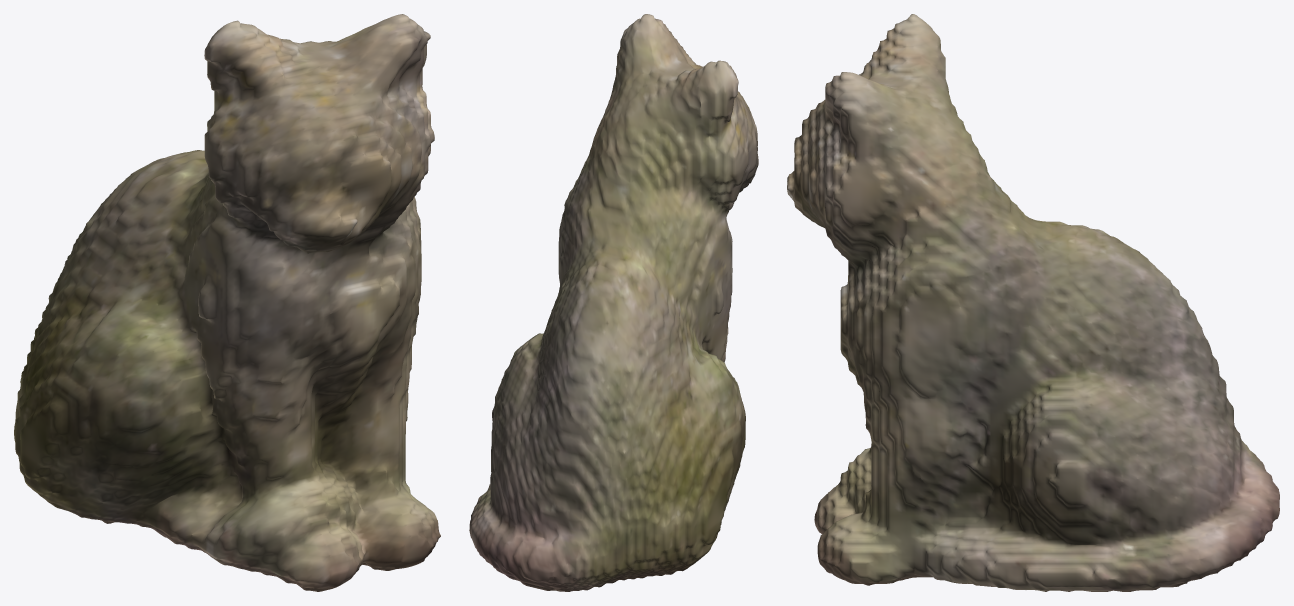
File: cat-statue.glb
The picture shows the model from 3 angles, left to right: view 1: azimuth 30°, elevation 25°; view 2: azimuth 150°, elevation 25°; view 3: azimuth 270°, elevation 25°; orthographic projection. The views are drawn at different scales.
Visible parts, largest first — view 1: cat-statue; view 2: cat-statue; view 3: cat-statue.
Part boxes in pixels (x1,y1,x2,y2): cat-statue: (14,14,440,591); cat-statue: (469,14,758,591); cat-statue: (787,14,1279,591).
Bounding box in the file's own units: 0.0556 × 0.1 × 0.0887.
